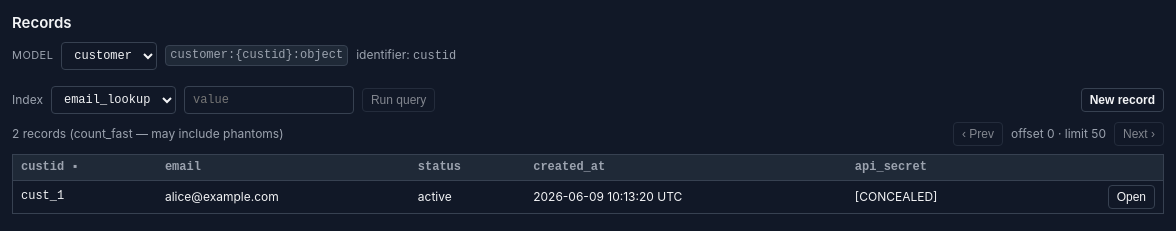
Test: index queries (T5 contract: no force, scan gate is a refusal) › runs a declared queryable index and renders matches; never sends force
The image size is (1176, 231).
Check: the table with test id "records-table" is shown, box [12,154,1164,214]
Type "alice@example.com" into the field with test id "records-query-value".
click(269, 100); type("alice@example.com")  # box [184,86,354,114]
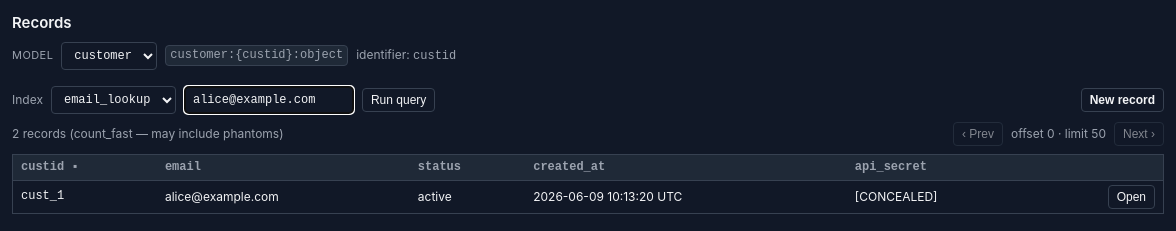
Click the button with test id "records-query-run".
click(399, 100)  # box [362,88,435,112]
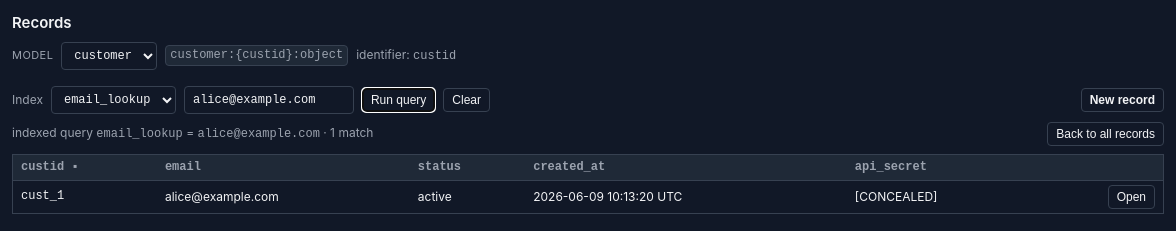
Check: the table with test id "records-table" is shown, box [12,154,1164,214]
Check: the element with test id "records-query-meta" is shown, box [12,122,1164,146]
